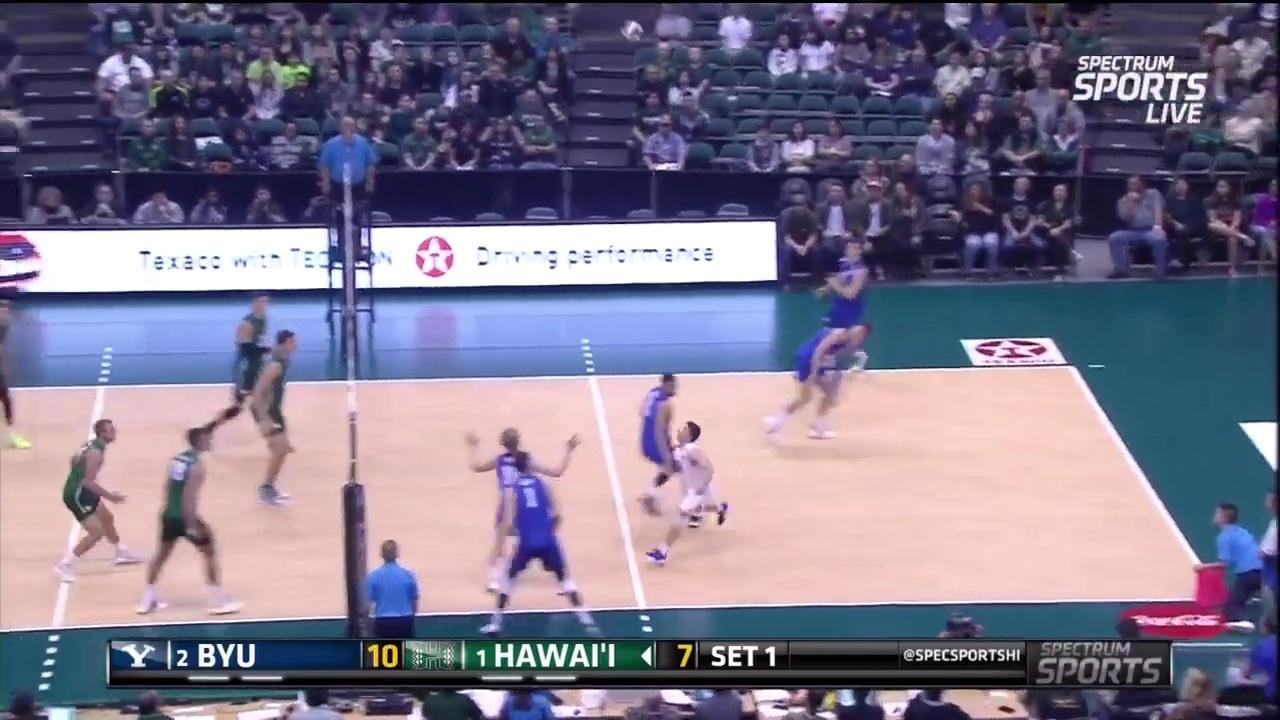player: (133, 421, 244, 618), (466, 426, 578, 590), (500, 451, 596, 629), (198, 291, 291, 449), (54, 416, 141, 582), (764, 321, 867, 446), (627, 366, 711, 514), (661, 421, 733, 564), (256, 329, 309, 511), (811, 235, 878, 375), (0, 274, 39, 456)
refree: (1199, 496, 1274, 626), (319, 111, 379, 259), (361, 536, 421, 640)
